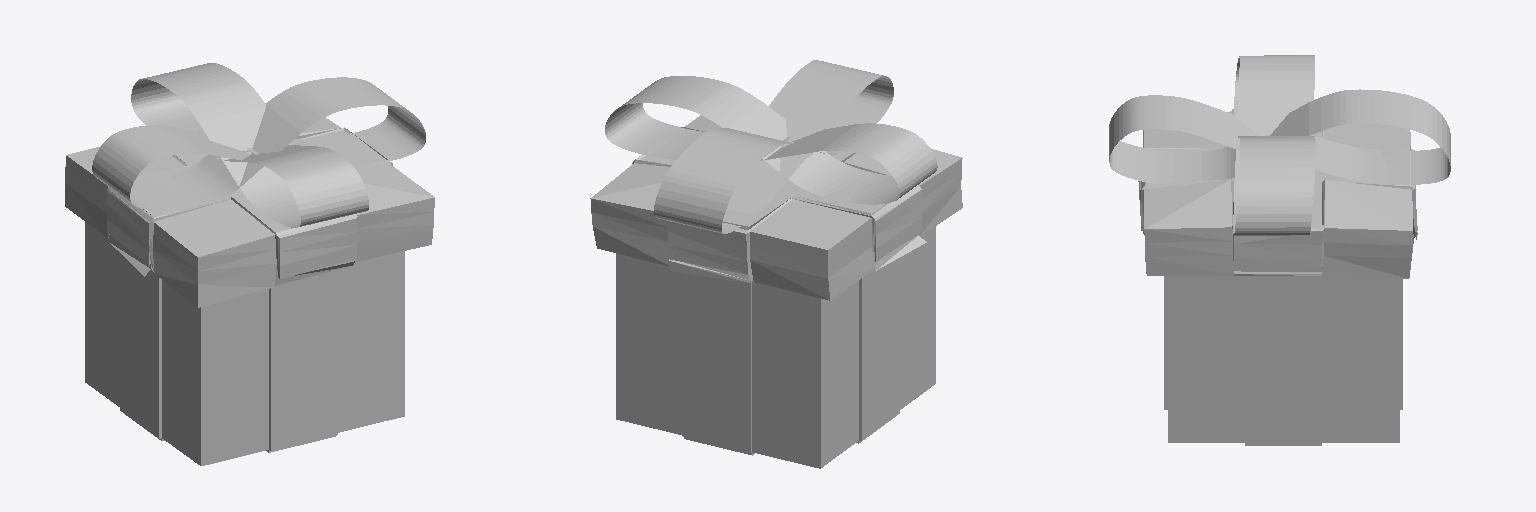
Rendered from gift.obj.
3 renders of one model, left to right at view 1: azimuth 30°, elevation 25°; view 2: azimuth 150°, elevation 25°; view 3: azimuth 270°, elevation 25°, orthographic.
Visible parts, largest first — view 1: Cube; view 2: Cube; view 3: Cube.
Part boxes in pixels (bbox=[...]): Cube: bbox=[65, 63, 434, 465]; Cube: bbox=[590, 60, 962, 468]; Cube: bbox=[1109, 55, 1450, 445].
Bounding box in the file's own units: 8.72 × 8.19 × 8.73.